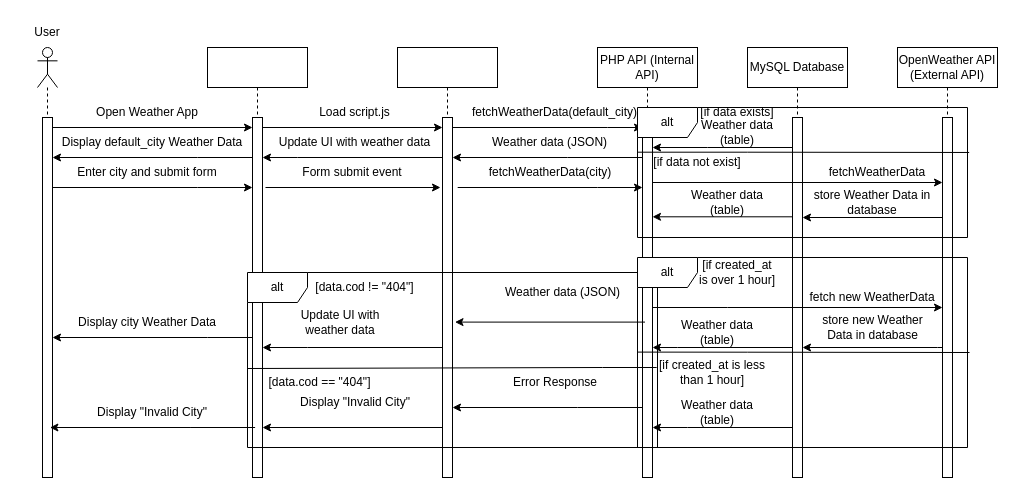
Some shapes in this 1015 by 495 pixel diagram are drawn without their labels. The box of each missing label's shape, as (x1, y1, x2, y2) in pixels:
JavaScript (Back End): (396, 46, 498, 478)
Weather UI (HTML/CSS): (206, 46, 308, 478)
